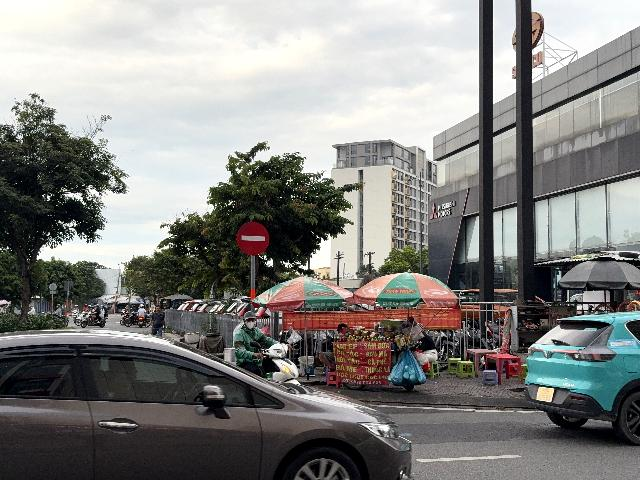cam-di-nguoc-chieu: (236, 221, 269, 256)
